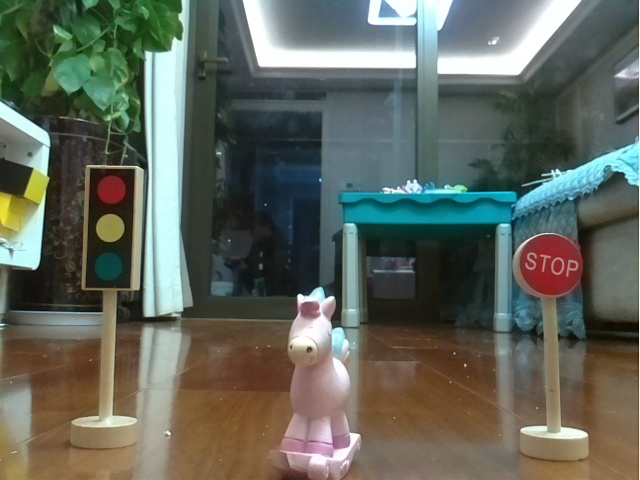Horse: (273, 279, 363, 480)
Red Traffic Light: (65, 161, 144, 451)
Stop Sign: (510, 227, 595, 463)
